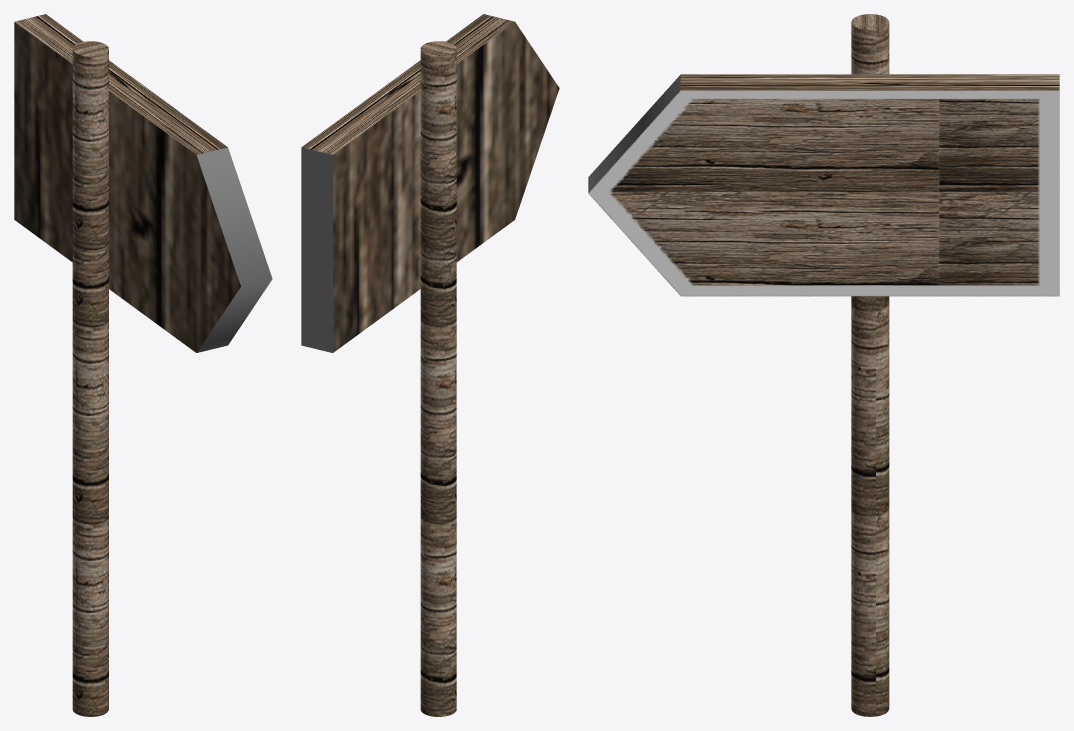
Rendered from SignBoard.obj.
The picture shows the model from 3 angles, left to right: view 1: azimuth 30°, elevation 25°; view 2: azimuth 150°, elevation 25°; view 3: azimuth 270°, elevation 25°; orthographic projection. The views are drawn at different scales.
Parts seen in each view (by area): view 1: pCube1, pCube1 pCylinder1; view 2: pCube1, pCube1 pCylinder1; view 3: pCube1, pCube1 pCylinder1.
Boxes of the visible parts, bbox=[...] form: pCube1: bbox=[14, 14, 272, 352]; pCube1 pCylinder1: bbox=[72, 41, 108, 716]; pCube1: bbox=[301, 14, 559, 352]; pCube1 pCylinder1: bbox=[420, 41, 456, 716]; pCube1: bbox=[588, 74, 1059, 296]; pCube1 pCylinder1: bbox=[851, 14, 889, 716].
Size of the model in its own units: 0.104 by 1.06 by 0.6582.
Materials: 2 (1 with a texture image).
